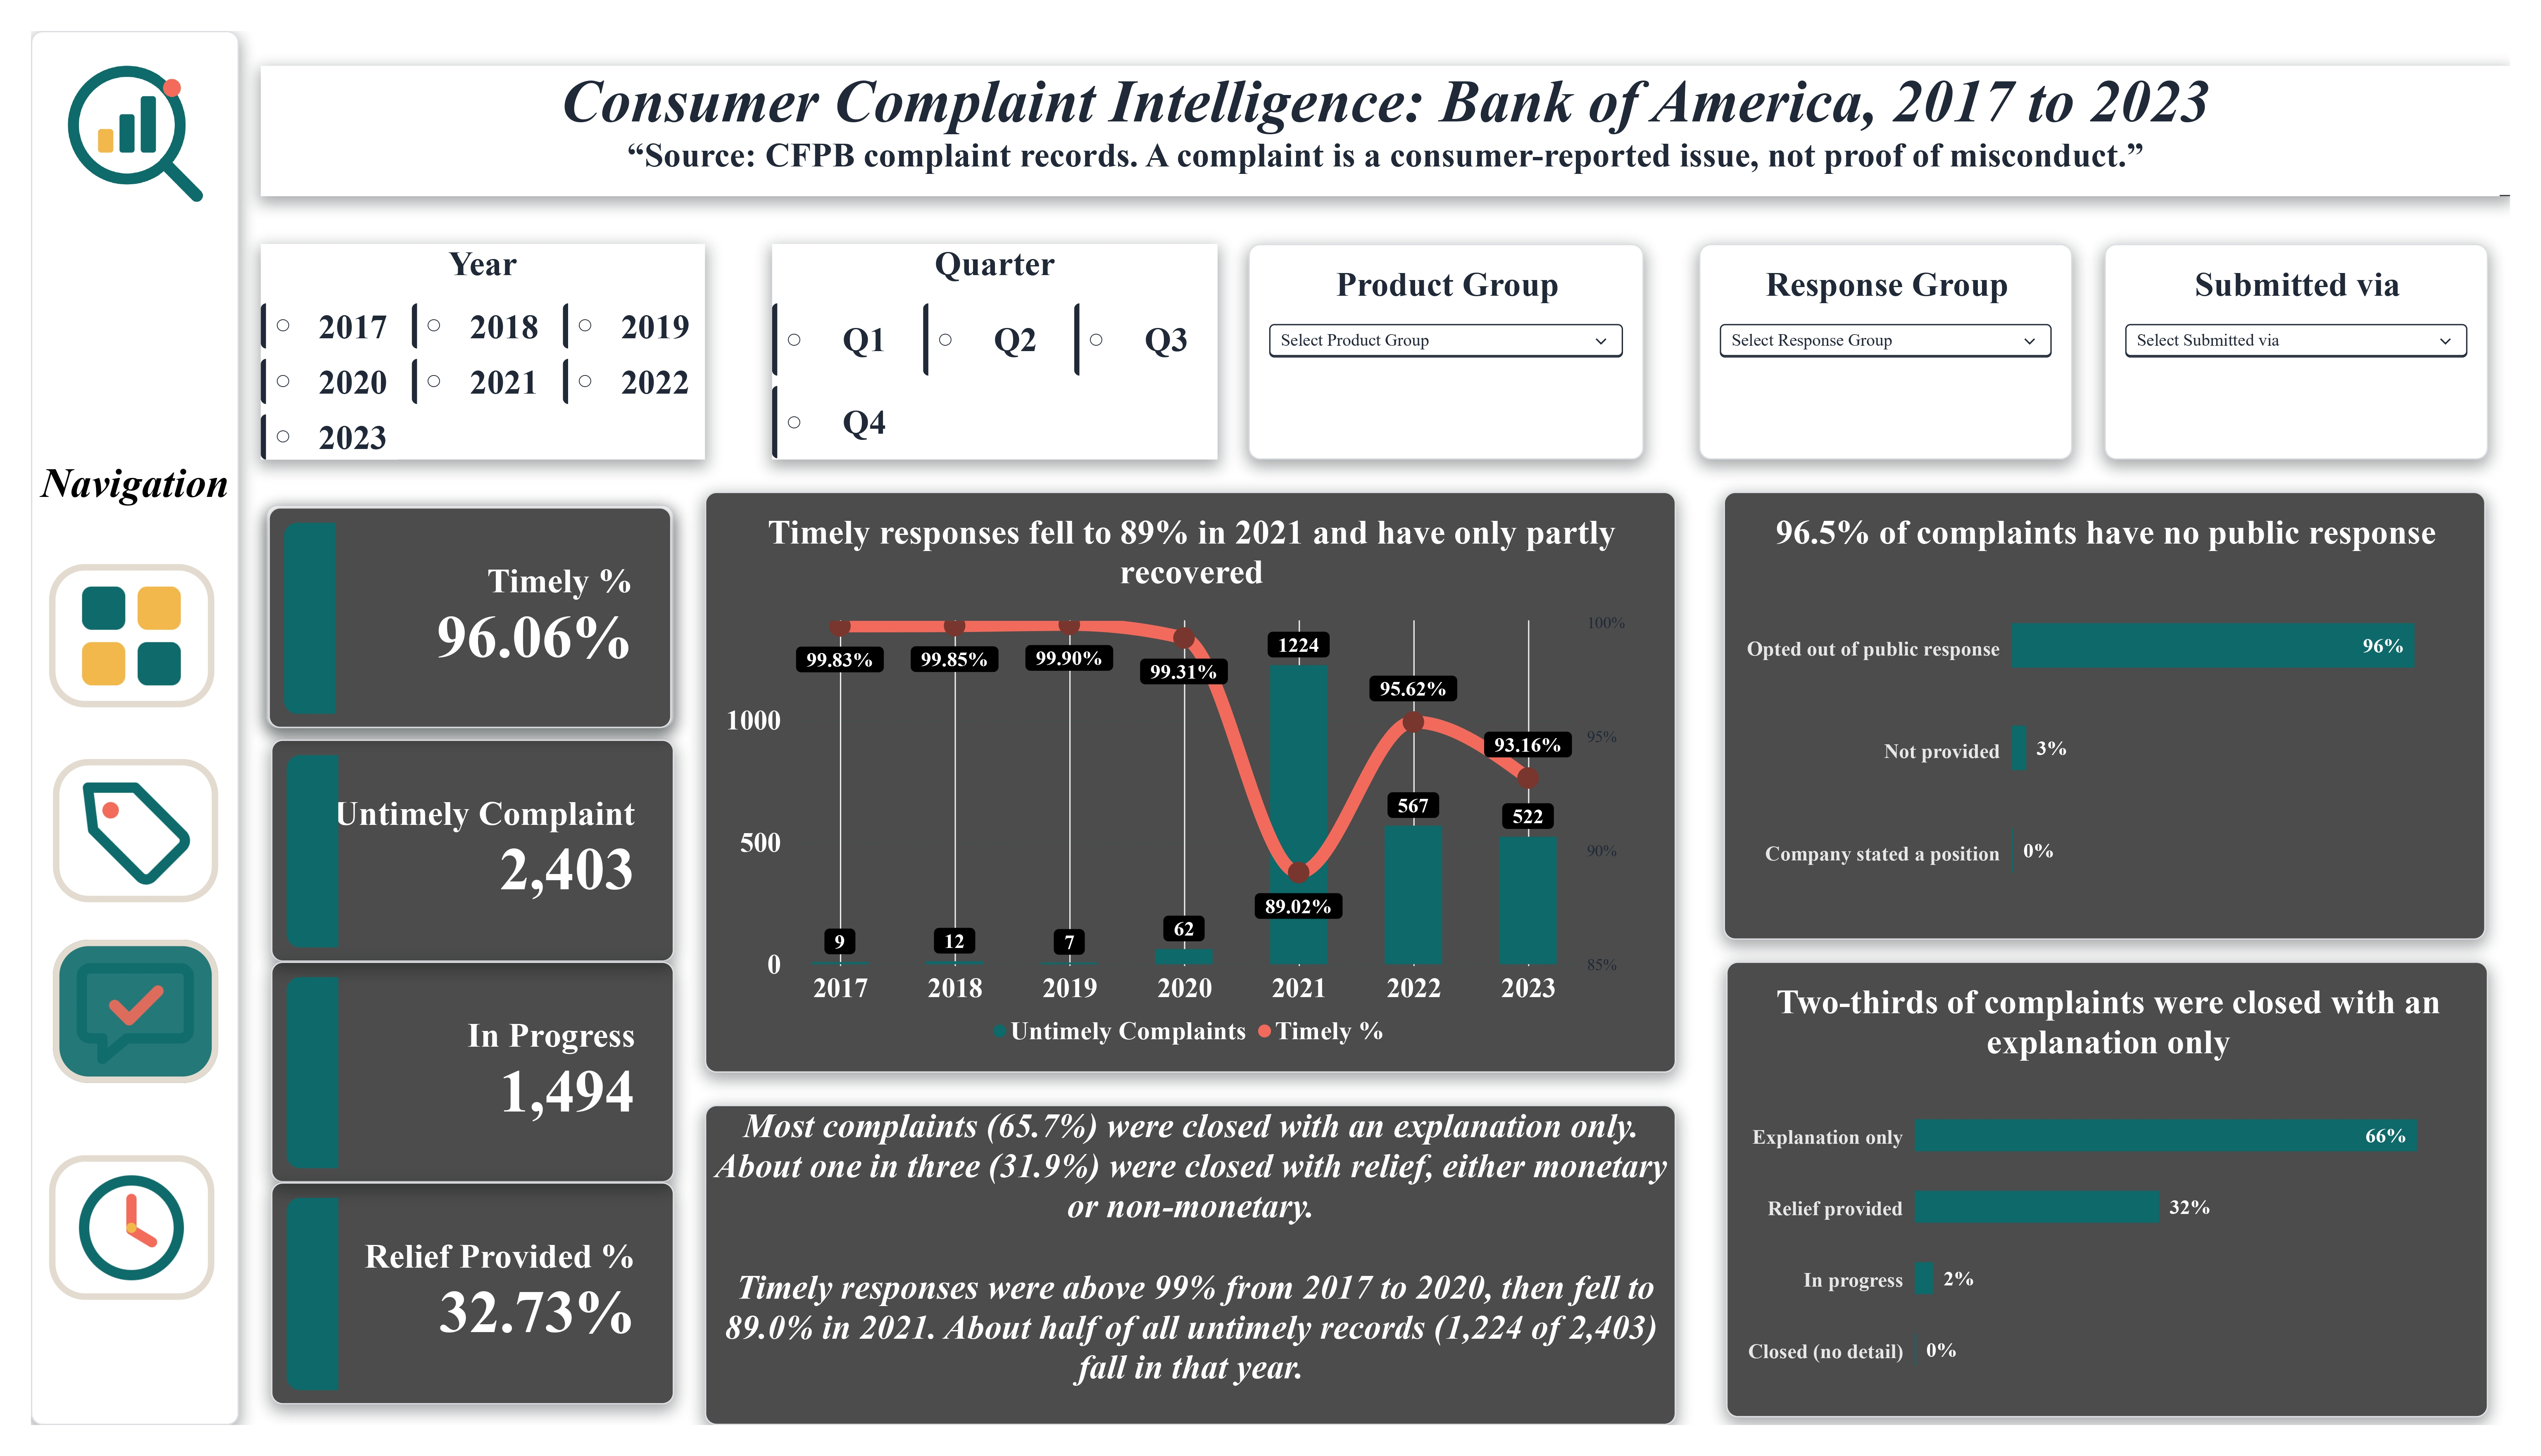

Layout of this report page (visuals, bound fields, positions):
{"tool":"powerbi","page":{"name":"Company Response Analysis","canvas":[1920,1080],"ordinal":2},"visuals":[{"type":"group","id":"g1","title":"Group 2","box":[0,0,161,1079.7],"z":0},{"type":"shape","box":[0,0,161,1079.7],"z":0,"group":"g1"},{"type":"shape","box":[181.7,367.5,316.4,173.5],"z":0,"group":"g2"},{"type":"image","box":[0,0,161,150.7],"z":1000,"group":"g1"},{"type":"textbox","title":"Consumer Complaint Intelligence: Bank of America, 2017 to 2023","box":[177.5,26.8,1742.5,101.2],"z":1000},{"type":"textbox","box":[0,332.4,161,80.5],"z":2000,"group":"g1"},{"type":"advancedSlicerVisual","fields":{"Values":["DimDate.Quarter"]},"box":[573.9,165.2,344.8,167.2],"z":3000},{"type":"listSlicer","fields":{"Values":["Complaints.Response Group"]},"box":[1292.4,165.2,289,167.2],"z":5000},{"type":"listSlicer","fields":{"Values":["Complaints.Submitted via"]},"box":[1606.2,165.2,297.3,167.2],"z":6000},{"type":"group","id":"g2","title":"Group 1","box":[181.7,367.5,315.9,173.4],"z":7000},{"type":"cardVisual","fields":{"Data":["Calculations.Timely %"]},"box":[184.1,369.2,312,171.6],"z":11000,"group":"g2"},{"type":"cardVisual","fields":{"Data":["Calculations.Untimely Complaints"]},"box":[185.8,549.2,312,171.6],"z":11000},{"type":"cardVisual","fields":{"Data":["Calculations.In Progress"]},"box":[185.8,720.5,312,171.6],"z":11000},{"type":"cardVisual","fields":{"Data":["Calculations.Relief Provided %"]},"box":[185.8,891.9,312,171.6],"z":11000},{"type":"clusteredBarChart","title":"Two-thirds of complaints were closed with an explanation only ","fields":{"Category":["Complaints.Response Group"],"Y":["Calculations.Share of Total %"]},"box":[1313,720.5,590.5,353],"z":13000},{"type":"actionButton","box":[16.5,704,128,111.5],"z":16000},{"type":"actionButton","box":[16.5,563.6,128,111.5],"z":17000},{"type":"actionButton","box":[14.5,871.2,128,111.5],"z":18000},{"type":"lineClusteredColumnComboChart","title":"Timely responses fell to 89% in 2021 and have only partly recovered","fields":{"Category":["DimDate.Year"],"Y":["Calculations.Untimely Complaints"],"Y2":["Calculations.Timely %"]},"box":[522.3,357.2,751.5,450.1],"z":18001},{"type":"clusteredBarChart","title":"96.5% of complaints have no public response","fields":{"Category":["Complaints.Public Response (Short)"],"Y":["Calculations.Share of Total %"]},"box":[1311,357.2,590.5,346.8],"z":18002},{"type":"textbox","box":[522.3,832,751.5,247.7],"z":18003},{"type":"actionButton","box":[14.5,412.9,128,111.5],"z":18004},{"type":"listSlicer","fields":{"Values":["Complaints.Product Group"]},"box":[943.5,165.2,305.5,167.2],"z":18005},{"type":"advancedSlicerVisual","fields":{"Values":["DimDate.Year"]},"box":[177.5,165.2,344.8,167.2],"z":18006}]}

Visuals, with their boxes on the page's 1920x1080 design canvas (x1, y1, x2, y2). These are canvas units, not pixel positions in the 2541x1456 screenshot, which may show the page scaled, cropped or inside an application window:
"Group 2" group: box(0, 0, 161, 1080)
shape: box(0, 0, 161, 1080)
shape: box(182, 368, 498, 541)
image: box(0, 0, 161, 151)
"Consumer Complaint Intelligence: Bank of America, 2017 to 2023" textbox: box(178, 27, 1920, 128)
textbox: box(0, 332, 161, 413)
advancedSlicerVisual - DimDate.Quarter: box(574, 165, 919, 332)
listSlicer - Complaints.Response Group: box(1292, 165, 1581, 332)
listSlicer - Complaints.Submitted via: box(1606, 165, 1904, 332)
"Group 1" group: box(182, 368, 498, 541)
cardVisual - Calculations.Timely %: box(184, 369, 496, 541)
cardVisual - Calculations.Untimely Complaints: box(186, 549, 498, 721)
cardVisual - Calculations.In Progress: box(186, 720, 498, 892)
cardVisual - Calculations.Relief Provided %: box(186, 892, 498, 1064)
"Two-thirds of complaints were closed with an explanation only " clusteredBarChart: box(1313, 720, 1904, 1074)
actionButton: box(16, 704, 144, 816)
actionButton: box(16, 564, 144, 675)
actionButton: box(14, 871, 142, 983)
"Timely responses fell to 89% in 2021 and have only partly recovered" lineClusteredColumnComboChart: box(522, 357, 1274, 807)
"96.5% of complaints have no public response" clusteredBarChart: box(1311, 357, 1902, 704)
textbox: box(522, 832, 1274, 1080)
actionButton: box(14, 413, 142, 524)
listSlicer - Complaints.Product Group: box(944, 165, 1249, 332)
advancedSlicerVisual - DimDate.Year: box(178, 165, 522, 332)
